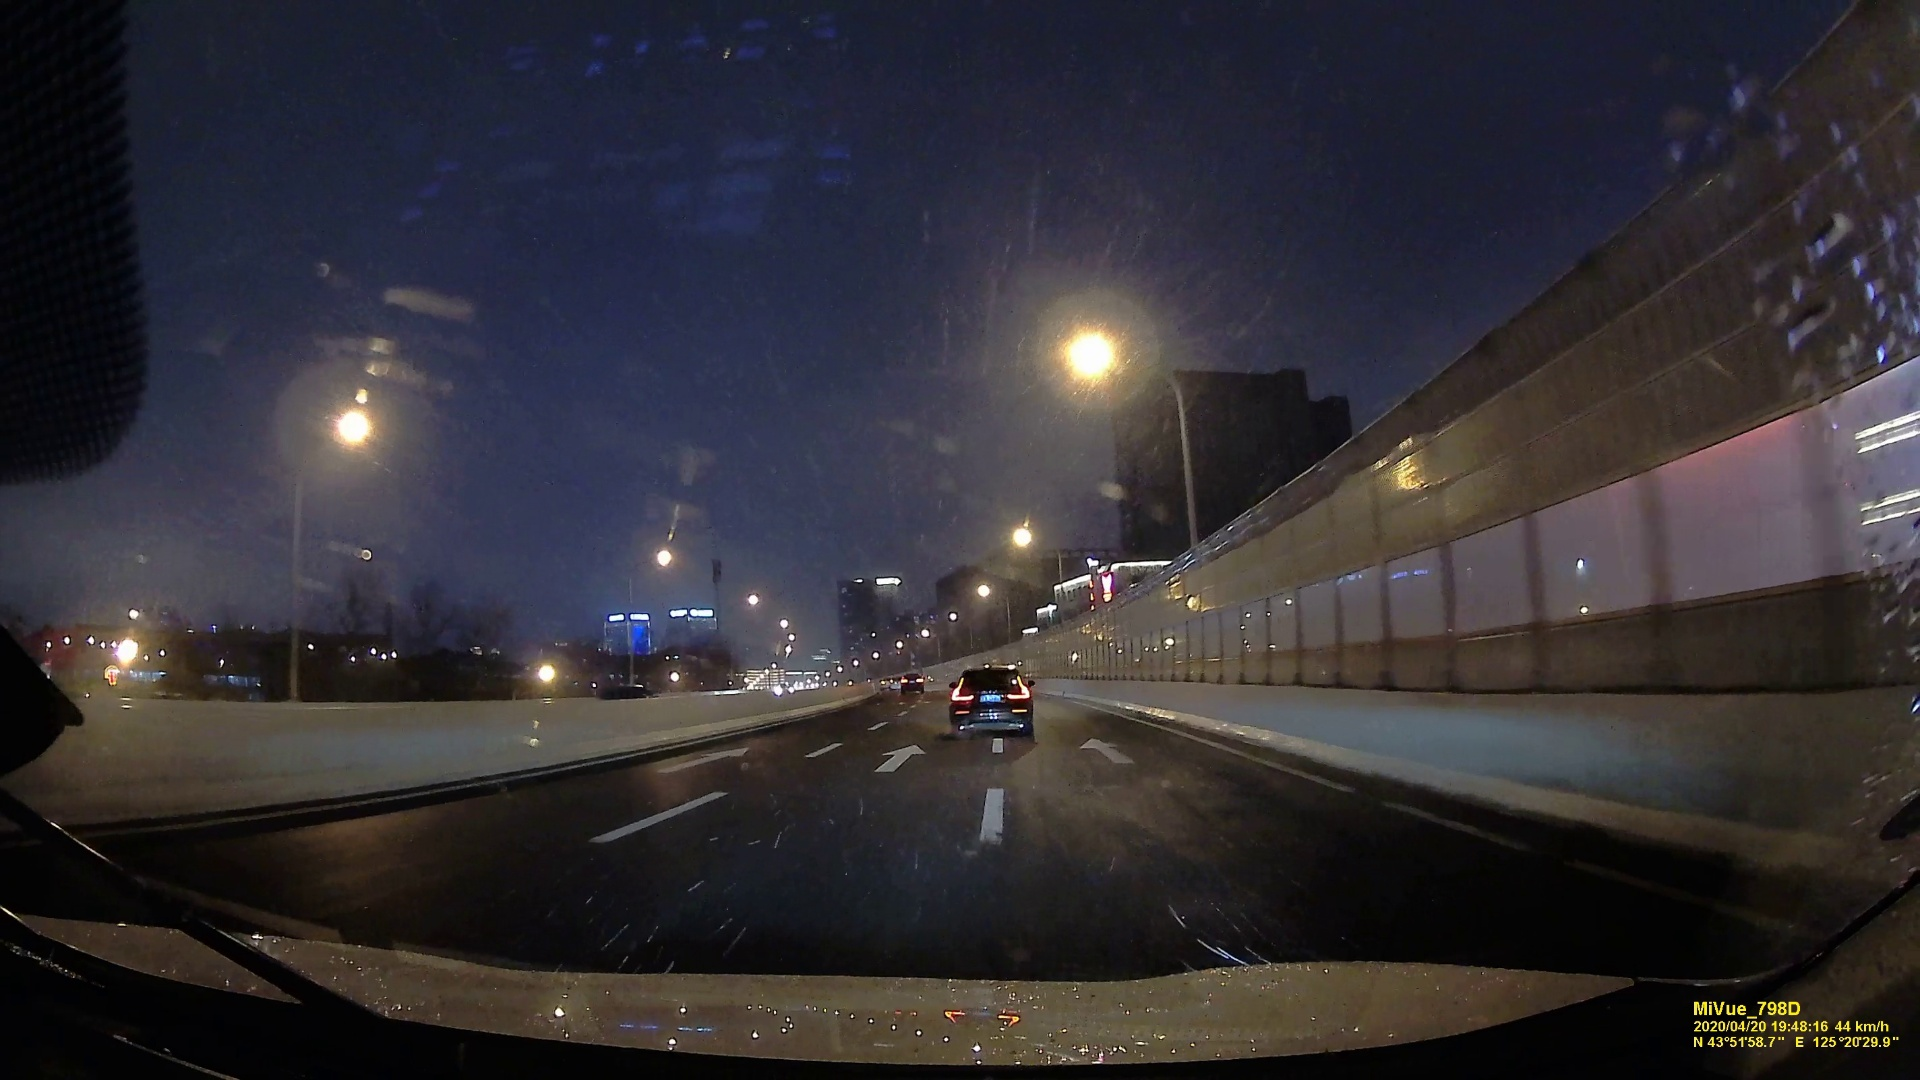vehicle: (948, 665, 1036, 738), (897, 671, 926, 694)
